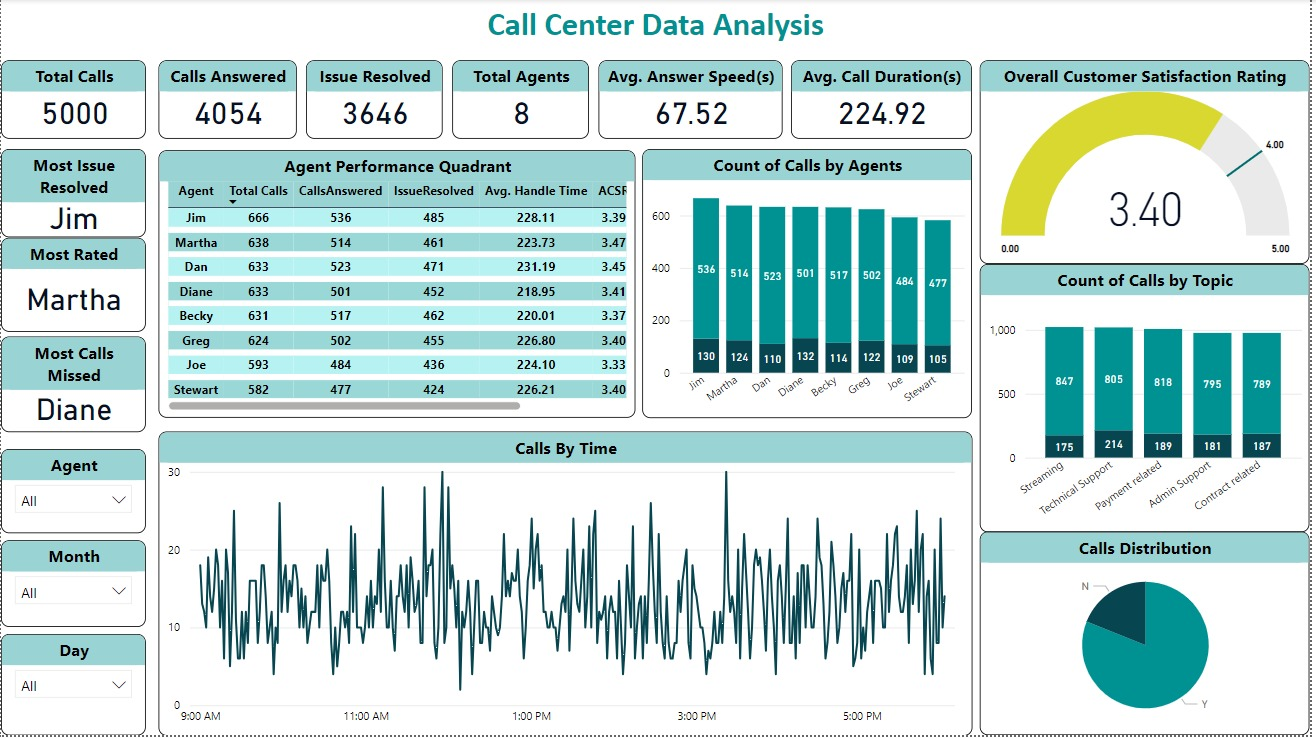

The page's visual inventory and layout, read from the dashboard file:
{"tool":"powerbi","page":{"name":"Page 1","canvas":[1280,720],"ordinal":0},"visuals":[{"type":"card","title":"Total Calls","fields":{"Values":["Call Center Data.Call Id"]},"box":[0,60.5,142,76.8],"z":0},{"type":"card","title":"Calls Answered","fields":{"Values":["Call Center Data.CallsAnswered"]},"box":[153.6,60.5,135,76.8],"z":1000},{"type":"card","title":"Avg. Answer Speed(s)","fields":{"Values":["Call Center Data.Speed of answer in seconds"]},"box":[584.1,60.5,180.4,76.8],"z":2000},{"type":"card","title":"Total Agents","fields":{"Values":["Call Center Data.Agent"]},"box":[441,60.5,133.8,76.8],"z":3000},{"type":"card","title":"Issue Resolved","fields":{"Values":["Call Center Data.IssueResolved"]},"box":[297.9,60.5,133.8,76.8],"z":4000},{"type":"gauge","title":"Overall Customer Satisfaction Rating","fields":{"Y":["Call Center Data.Satisfaction rating"]},"box":[957.7,60.5,322.3,199],"z":5000},{"type":"card","title":"Avg. Call Duration(s)","fields":{"Values":["Call Center Data.AvgCallDuration(s)"]},"box":[772.7,60.5,176.9,76.8],"z":6000},{"type":"pieChart","title":"Calls Distribution","fields":{"Category":["Call Center Data.Answered (Y/N)"],"Y":["Call Center Data.Call Id"]},"box":[957.7,521.3,322.3,199],"z":7000},{"type":"columnChart","title":"Count of Calls by Topic","fields":{"Y":["Call Center Data.Call Id"],"Category":["Call Center Data.Topic"],"Series":["Call Center Data.Answered (Y/N)"]},"box":[957.7,259.2,322.3,262.5],"z":8000},{"type":"columnChart","title":"Count of Calls by Agents","fields":{"Y":["Call Center Data.Call Id"],"Series":["Call Center Data.Answered (Y/N)"],"Category":["Call Center Data.Agent"]},"box":[627.2,146.6,322.3,263],"z":9000},{"type":"tableEx","title":"Agent Performance Quadrant","fields":{"Values":["Call Center Data.Agent","Call Center Data.Call Id","Call Center Data.CallsAnswered","Call Center Data.IssueResolved","Call Center Data.AvgCallDuration(s)","Call Center Data.Satisfaction rating","Call Center Data.%TotalCallsAnswered"]},"box":[153.6,147.8,466.6,261.8],"z":10000},{"type":"lineChart","title":"Calls By Time","fields":{"Category":["Call Center Data.Time"],"Y":["Call Center Data.Call Id"]},"box":[153.6,422.4,795.9,297.9],"z":11000},{"type":"card","title":"Most Issue Resolved","fields":{"Values":["Call Center Data.Agent"]},"box":[0,147,141.5,86.5],"z":12000},{"type":"card","title":"Most Rated","fields":{"Values":["Call Center Data.Agent"]},"box":[0,233.5,141.5,92],"z":13000},{"type":"card","title":"Most Calls Missed","fields":{"Values":["Call Center Data.Agent"]},"box":[0,329.6,141.5,93.4],"z":14000},{"type":"slicer","title":"Agent","fields":{"Values":["Call Center Data.Agent"]},"box":[0,439.5,141.5,82.4],"z":15000},{"type":"slicer","title":"Month","fields":{"Values":["Call Center Data.MonthName"]},"box":[0,528.8,141.5,85.2],"z":16000},{"type":"slicer","title":"Day","fields":{"Values":["Call Center Data.Date.Variation.Date Hierarchy.Day"]},"box":[0,620.8,141.5,98.9],"z":17000},{"type":"textbox","box":[0,0,1280,50.8],"z":18000}]}

Visuals, with their boxes in screenshot pixels (x1, y1, x2, y2), scaled from the page's 1280x720 canvas onto the 1316x738 screenshot:
"Total Calls" card: {"x1": 0, "y1": 62, "x2": 146, "y2": 141}
"Calls Answered" card: {"x1": 158, "y1": 62, "x2": 297, "y2": 141}
"Avg. Answer Speed(s)" card: {"x1": 601, "y1": 62, "x2": 786, "y2": 141}
"Total Agents" card: {"x1": 453, "y1": 62, "x2": 591, "y2": 141}
"Issue Resolved" card: {"x1": 306, "y1": 62, "x2": 444, "y2": 141}
"Overall Customer Satisfaction Rating" gauge: {"x1": 985, "y1": 62, "x2": 1315, "y2": 266}
"Avg. Call Duration(s)" card: {"x1": 794, "y1": 62, "x2": 976, "y2": 141}
"Calls Distribution" pieChart: {"x1": 985, "y1": 534, "x2": 1315, "y2": 737}
"Count of Calls by Topic" columnChart: {"x1": 985, "y1": 266, "x2": 1315, "y2": 535}
"Count of Calls by Agents" columnChart: {"x1": 645, "y1": 150, "x2": 976, "y2": 420}
"Agent Performance Quadrant" tableEx: {"x1": 158, "y1": 151, "x2": 638, "y2": 420}
"Calls By Time" lineChart: {"x1": 158, "y1": 433, "x2": 976, "y2": 737}
"Most Issue Resolved" card: {"x1": 0, "y1": 151, "x2": 145, "y2": 239}
"Most Rated" card: {"x1": 0, "y1": 239, "x2": 145, "y2": 334}
"Most Calls Missed" card: {"x1": 0, "y1": 338, "x2": 145, "y2": 434}
"Agent" slicer: {"x1": 0, "y1": 450, "x2": 145, "y2": 535}
"Month" slicer: {"x1": 0, "y1": 542, "x2": 145, "y2": 629}
"Day" slicer: {"x1": 0, "y1": 636, "x2": 145, "y2": 737}
textbox: {"x1": 0, "y1": 0, "x2": 1315, "y2": 52}
